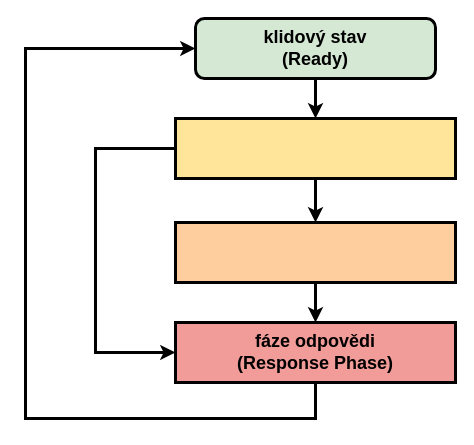
This 474x445 diagram has some shape labels left out. The shapes that lost their labels are listed below. From the top down, each one's centre as x and y in pixels, then its label:
pixel 315 148: fáze požadavků na operaci ( Operation Request Phase)
pixel 315 252: fáze přenosu dat (Data Phase)
